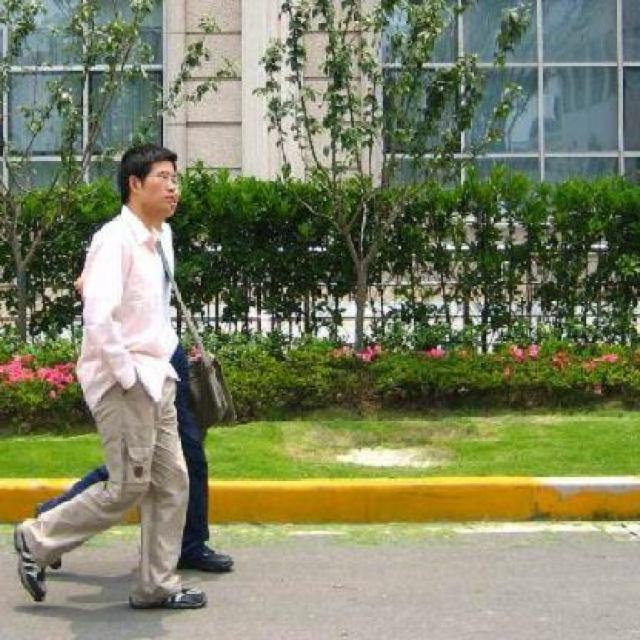obstacle: (9, 134, 206, 638)
